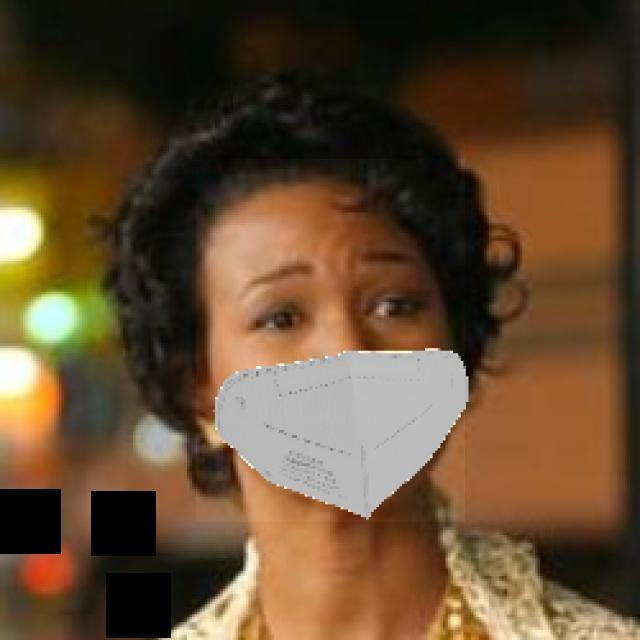kn95: (196, 159, 465, 522)
